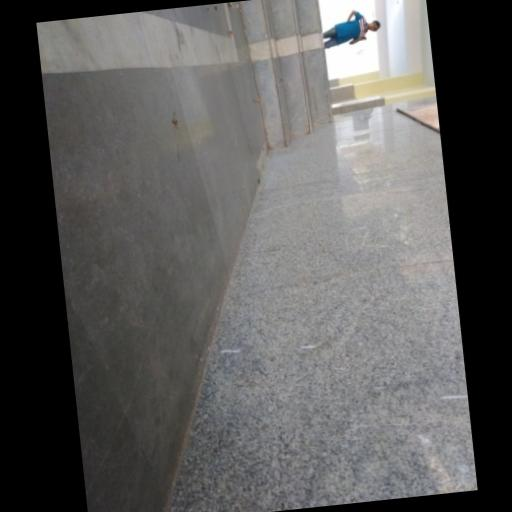stairs: (240, 0, 331, 148)
